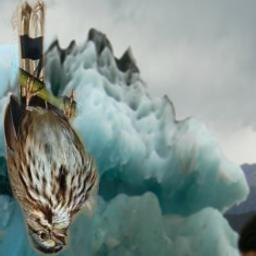Sparrow: (3, 0, 99, 256)
